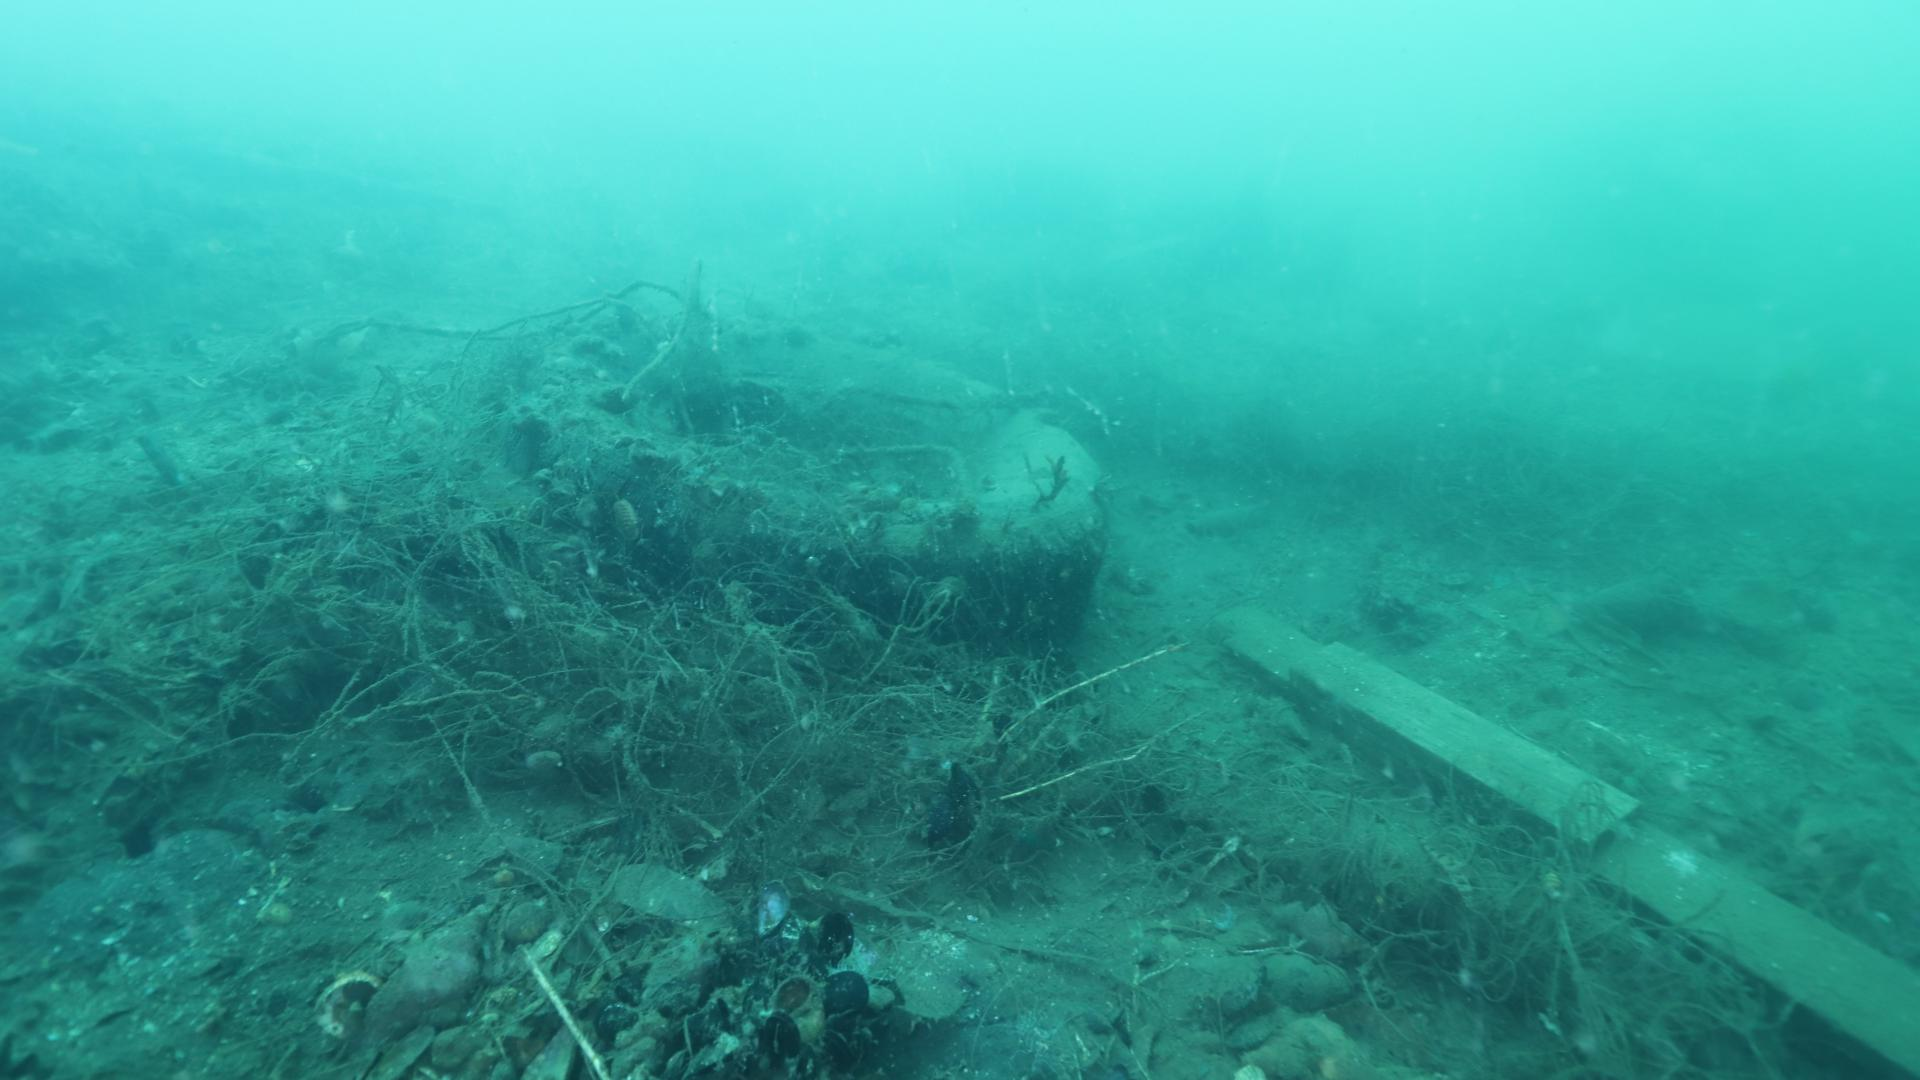tire: (517, 328, 1113, 655)
wood: (1224, 604, 1920, 1080)
